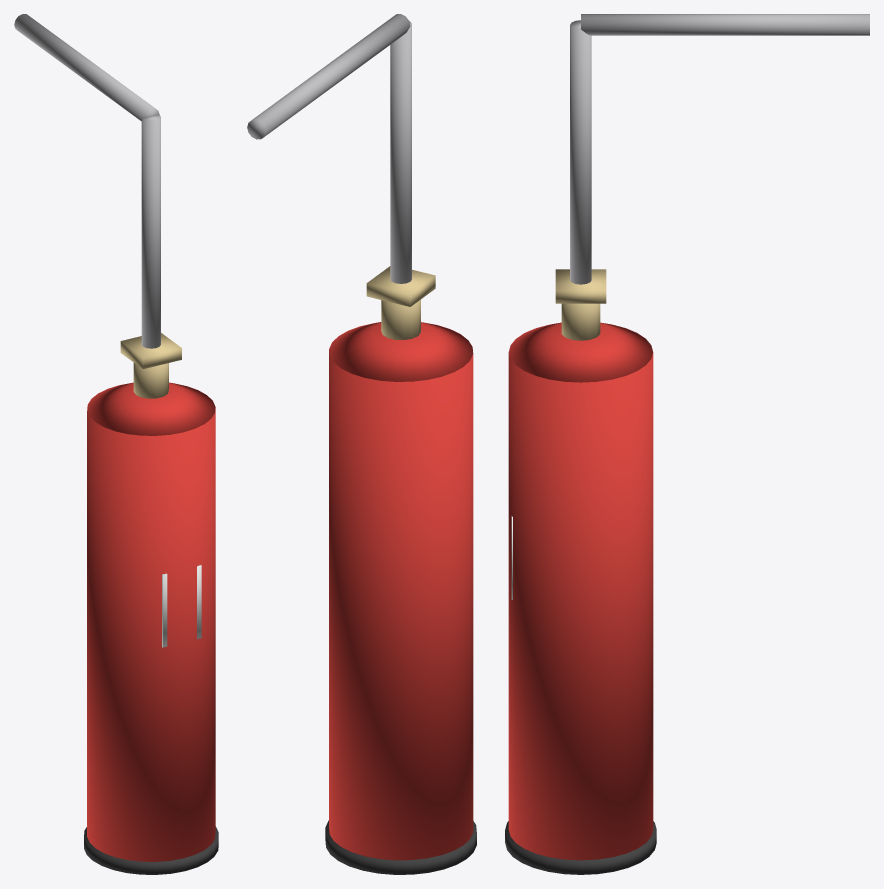
Rendered from fire.glb.
3 renders of one model, left to right at view 1: azimuth 30°, elevation 25°; view 2: azimuth 150°, elevation 25°; view 3: azimuth 270°, elevation 25°, orthographic. The views are drawn at different scales.
Parts seen in each view (by area): view 1: agent_cylinder; view 2: agent_cylinder; view 3: agent_cylinder.
Part boxes in pixels (x1=…): agent_cylinder: x1=14, y1=14, x2=218, y2=874; agent_cylinder: x1=247, y1=14, x2=476, y2=874; agent_cylinder: x1=505, y1=14, x2=869, y2=874.
Bounding box in the file's own units: 0.42 × 2.57 × 1.01.
